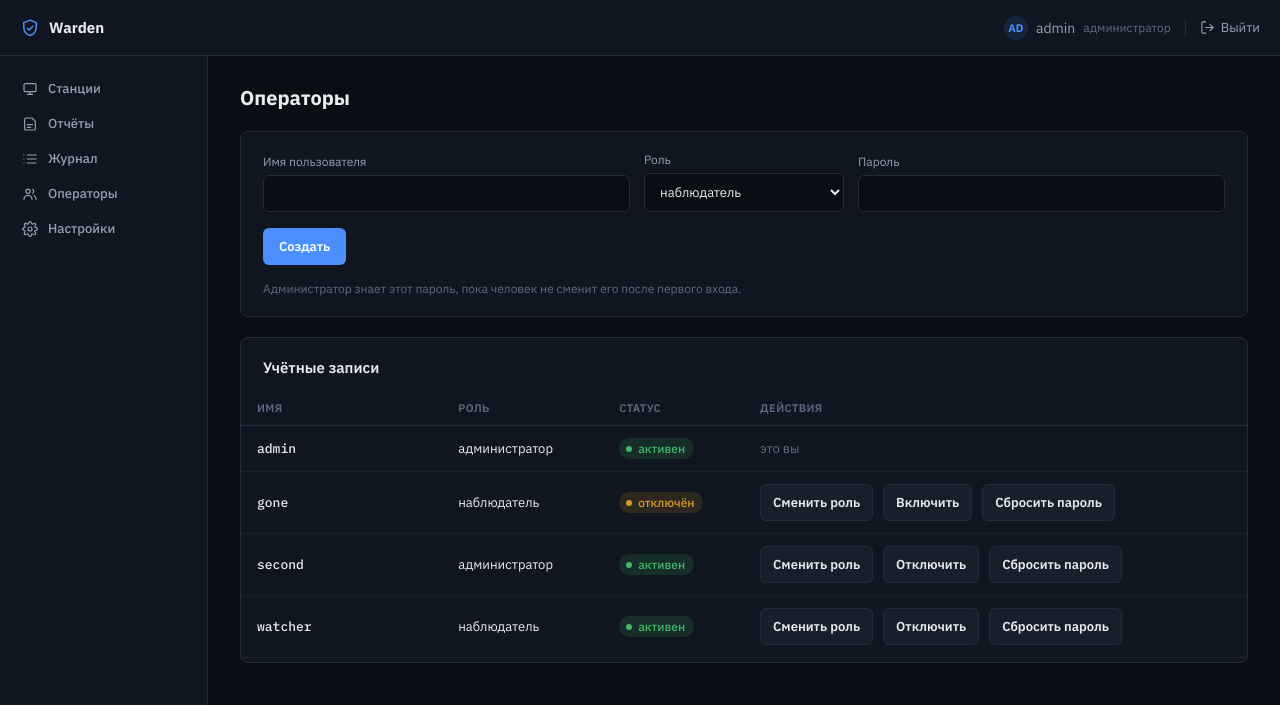
OperatorsPage create › posts the username, role and password, adds the row and clears the form
Expected: the row that starts with "watcher" is shown, [241, 596, 1247, 658]
Type "colleague" into the field labelled "Имя пользователя" at (446, 194), box [263, 175, 630, 212]
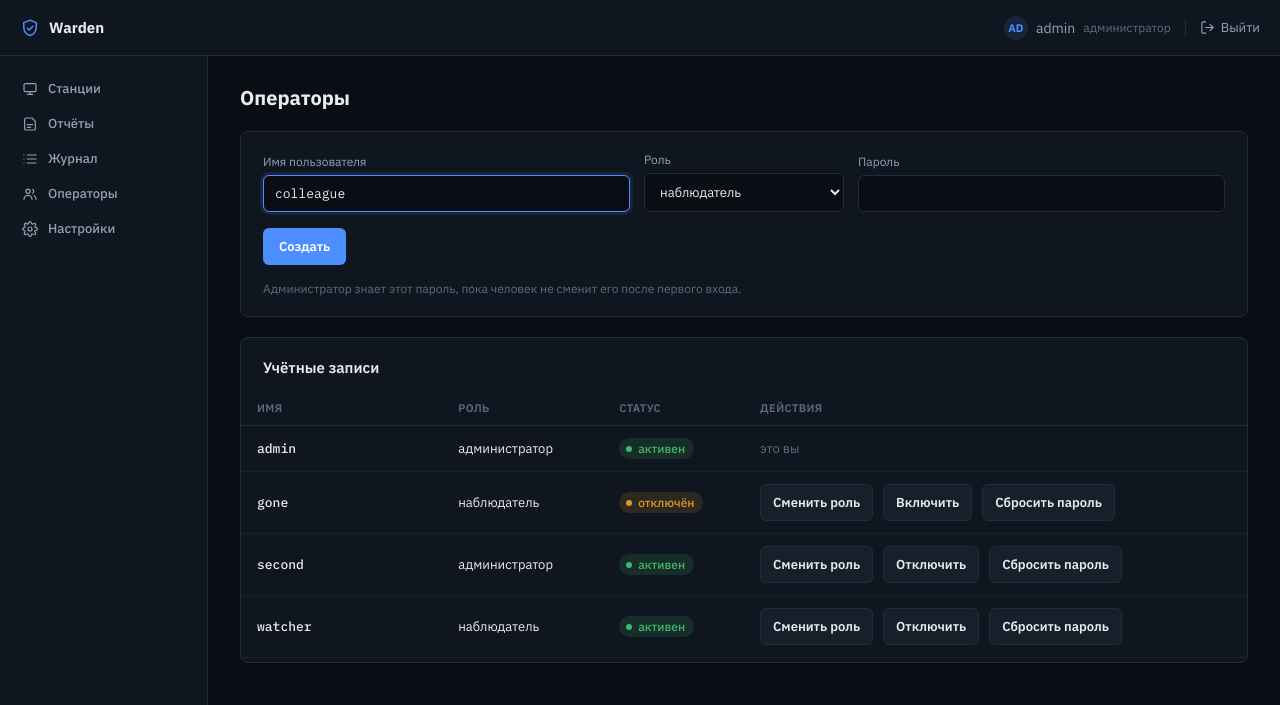
Select "наблюдатель" in the dropdown labelled "Роль" at (744, 192), box [644, 173, 844, 212]
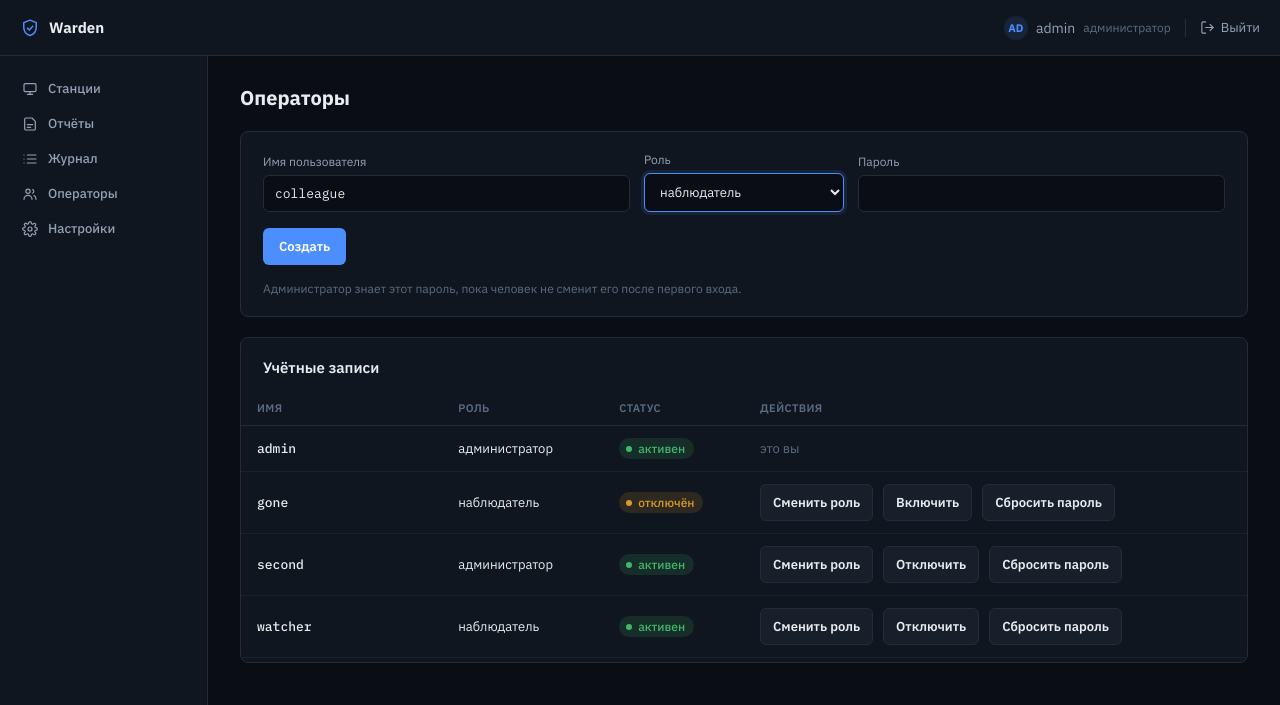
Type "a-long-enough-passphrase" into the password field labelled "Пароль" at (1042, 194), box [858, 175, 1225, 212]
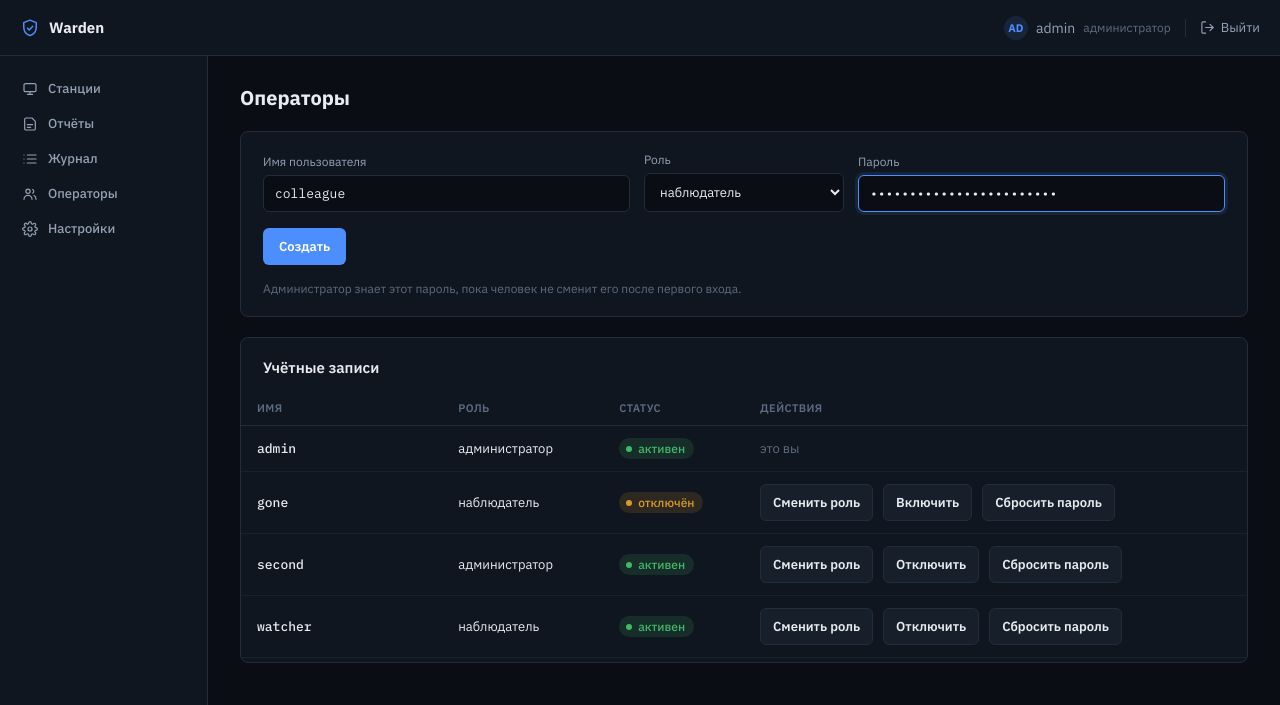
Click the button "Создать" at (305, 246), box [263, 228, 346, 265]
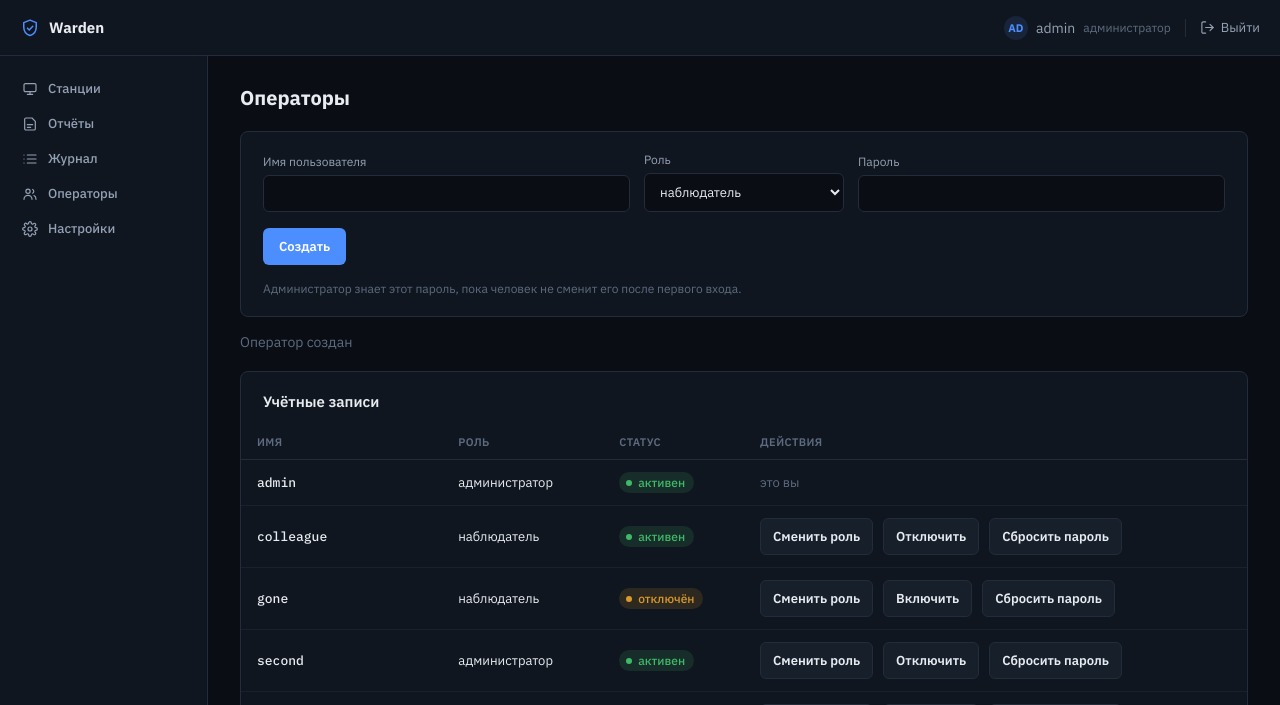
Now the text "Оператор создан" is shown, box [240, 333, 352, 351]
Now the field labelled "Имя пользователя" is empty, box [263, 175, 630, 212]
Now the password field labelled "Пароль" is empty, box [858, 175, 1225, 212]
